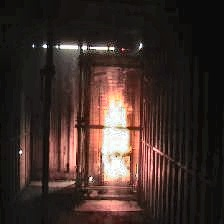fire: (97, 74, 138, 187)
